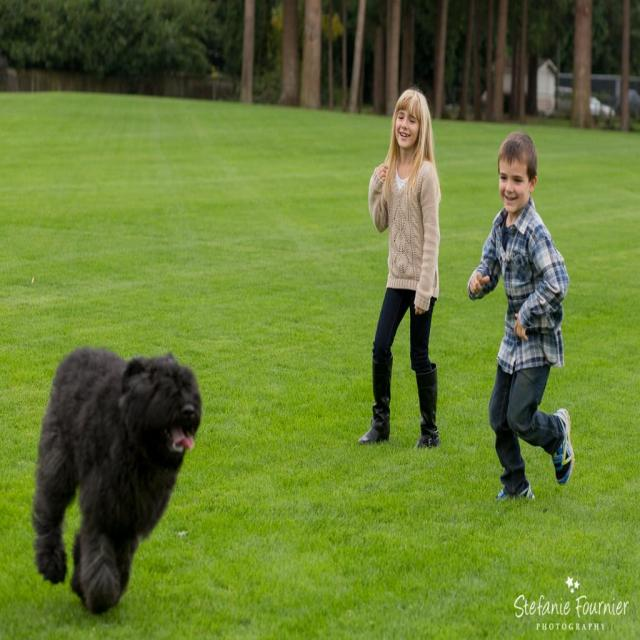nomask: (498, 154, 528, 212), (395, 100, 420, 148)
